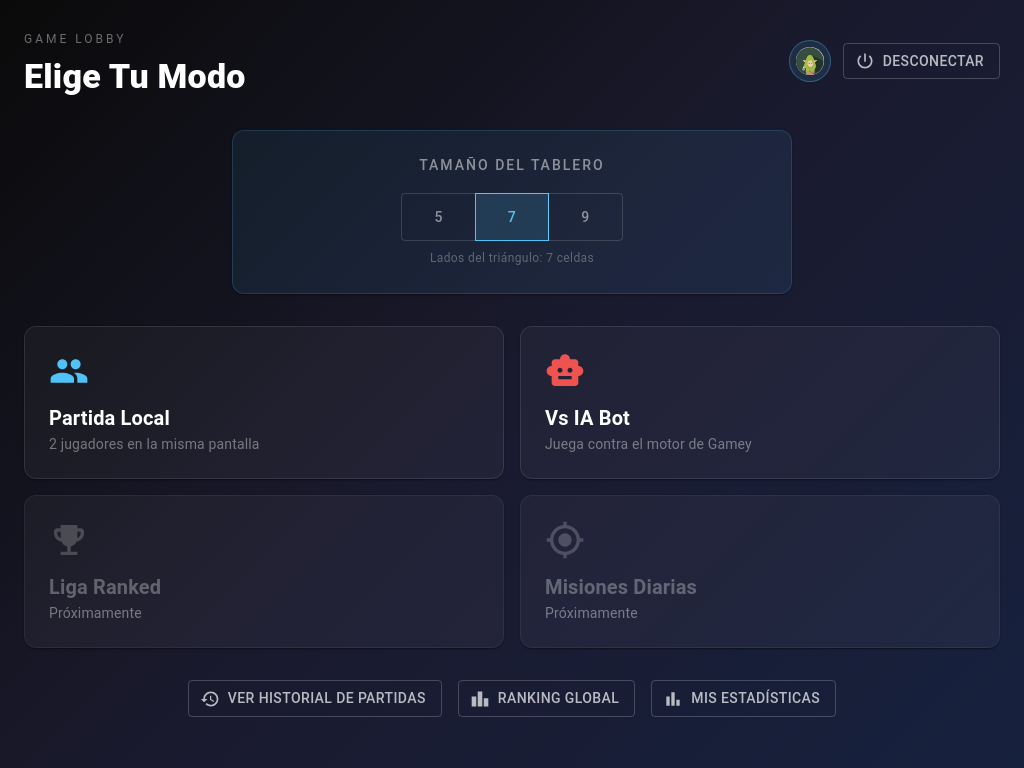
Menu board size selection › updates the board size hint when selecting a different size
The width and height of the screenshot is (1024, 768).
Expected: the text "Lados del triángulo: 7 celdas" is shown, 430,251 -> 594,265
Click the button "5" at (439, 217), box 402,193 -> 476,241
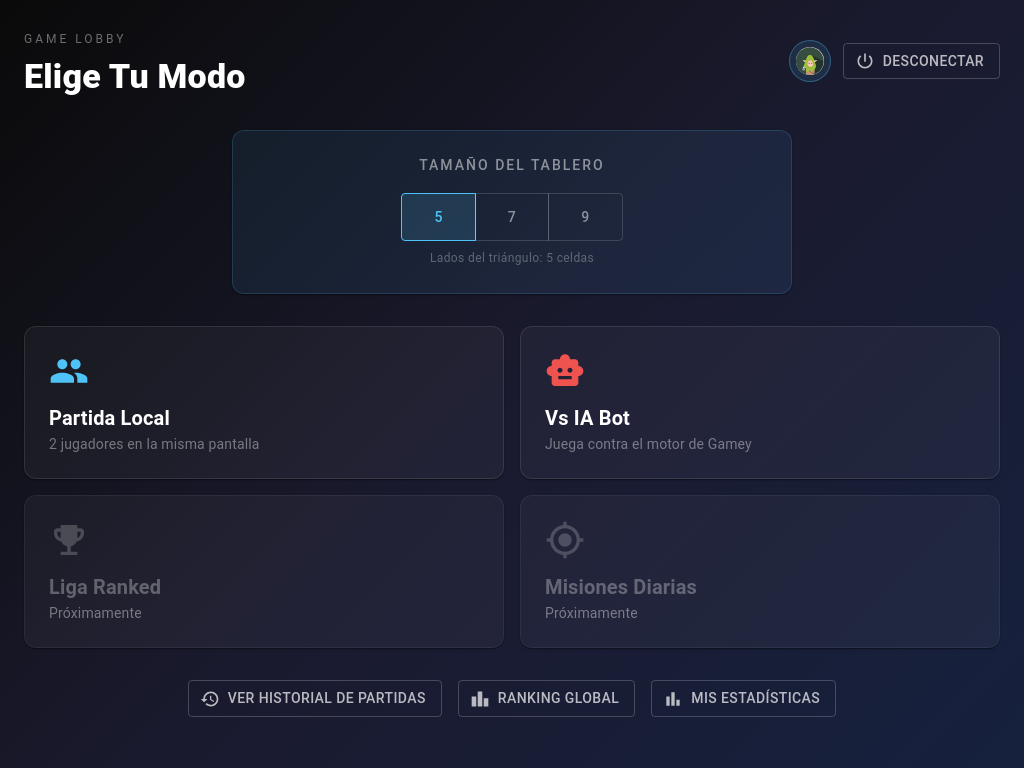
Now the text "Lados del triángulo: 5 celdas" is shown, box 430,251 -> 594,265
